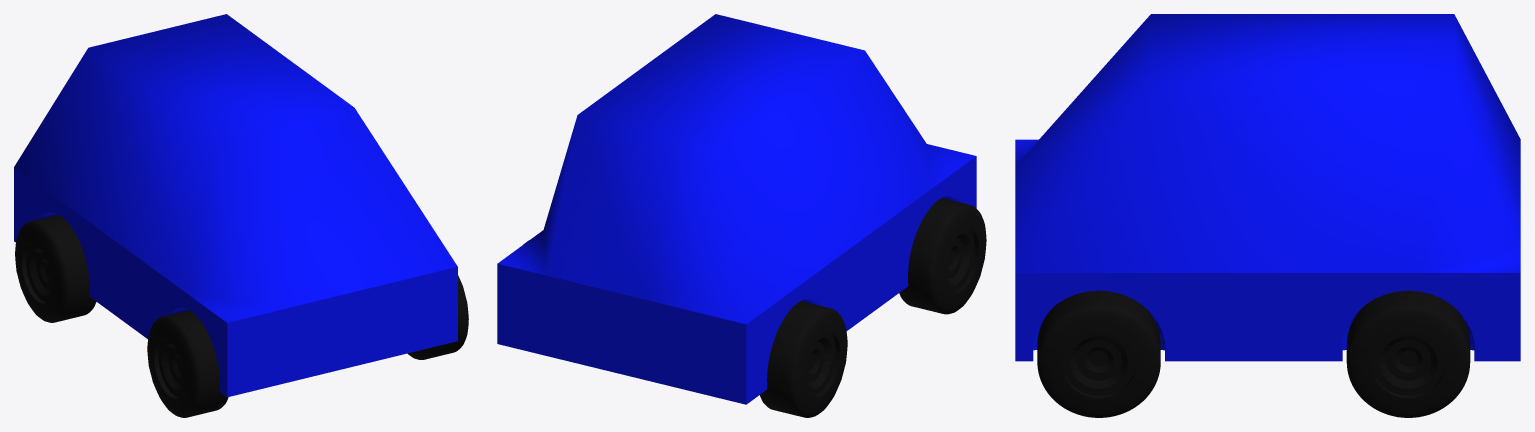
The model's file is please.FBX.
3 views of the same model, side by side, from view 1: azimuth 30°, elevation 25°; view 2: azimuth 150°, elevation 25°; view 3: azimuth 270°, elevation 25° (orthographic). The views are drawn at different scales.
Parts seen in each view (by area): view 1: Box001, Cylinder013, Cylinder012, Cylinder011; view 2: Box001, Cylinder013, Cylinder012; view 3: Box001, Cylinder005, Cylinder011.
Part boxes in pixels (box(x1,y1,x2,y2)): Box001: box(14, 14, 457, 397); Cylinder013: box(15, 214, 96, 322); Cylinder012: box(147, 310, 228, 417); Cylinder011: box(407, 275, 468, 359); Box001: box(497, 14, 976, 404); Cylinder013: box(760, 301, 847, 417); Cylinder012: box(899, 198, 986, 314); Box001: box(1015, 14, 1520, 361); Cylinder005: box(1346, 290, 1470, 417); Cylinder011: box(1037, 290, 1160, 417).
Bounding box in the file's own units: 121 × 100 × 161.
